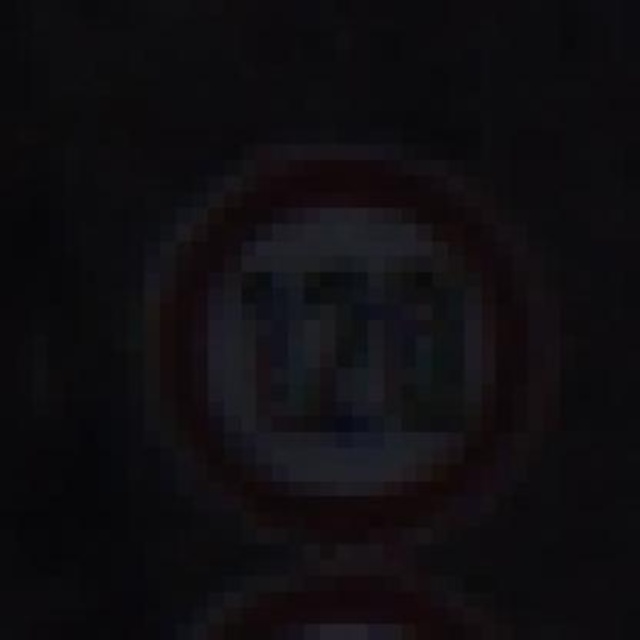Tốc độ tối đa cho phép 120km/h: (153, 151, 533, 548)
